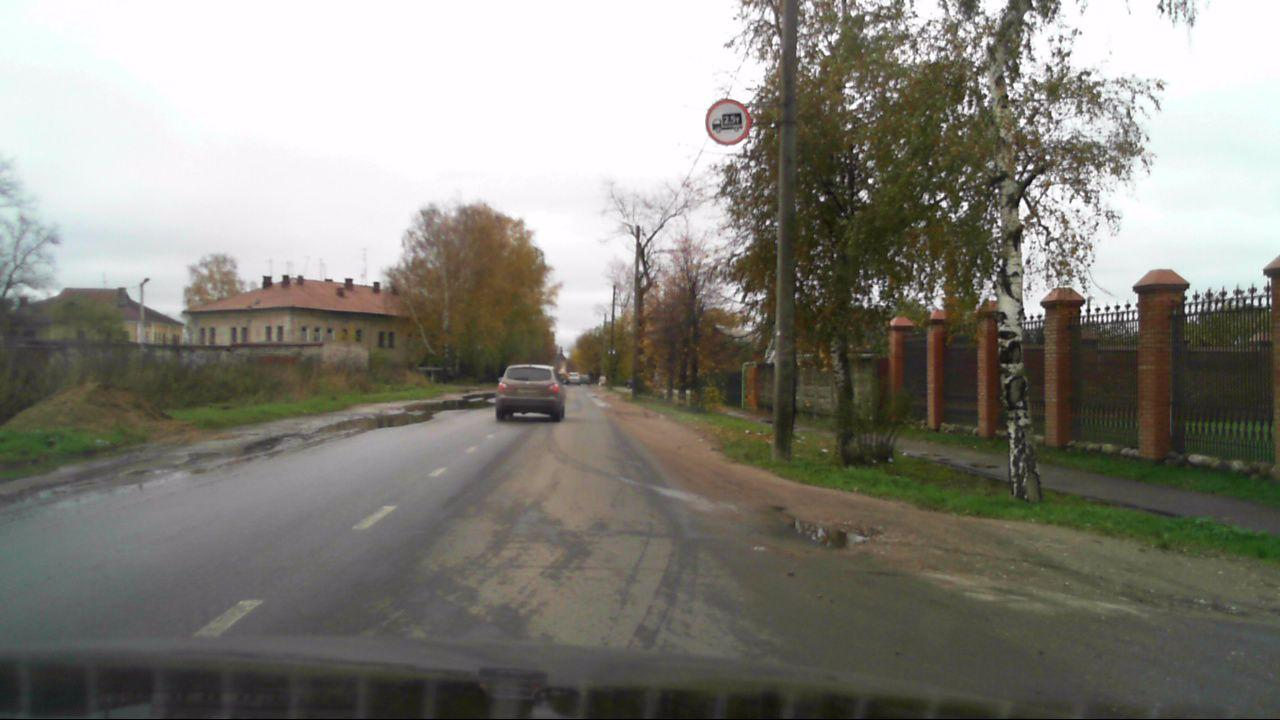3_4: (704, 98, 752, 145)
